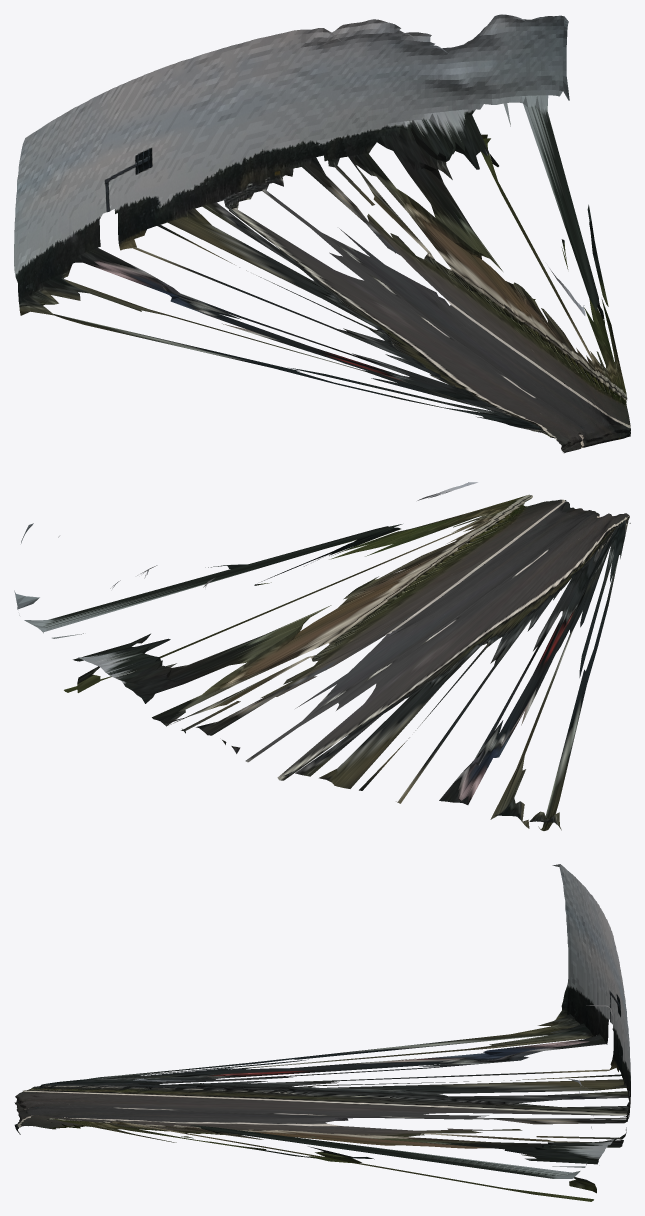
3 renders of one model, top to bottom at view 1: azimuth 30°, elevation 25°; view 2: azimuth 150°, elevation 25°; view 3: azimuth 270°, elevation 25°, orthographic. The views are drawn at different scales.
Parts seen in each view (by area): view 1: defaultobject; view 2: defaultobject; view 3: defaultobject.
Boxes of the visible parts, x1,y1,x2,y2 form: defaultobject: (14, 14, 630, 453); defaultobject: (14, 482, 630, 830); defaultobject: (14, 864, 630, 1201).
Size of the model in its own units: 41.03 by 13.56 by 44.23.
Materials: 1 (1 with a texture image).
